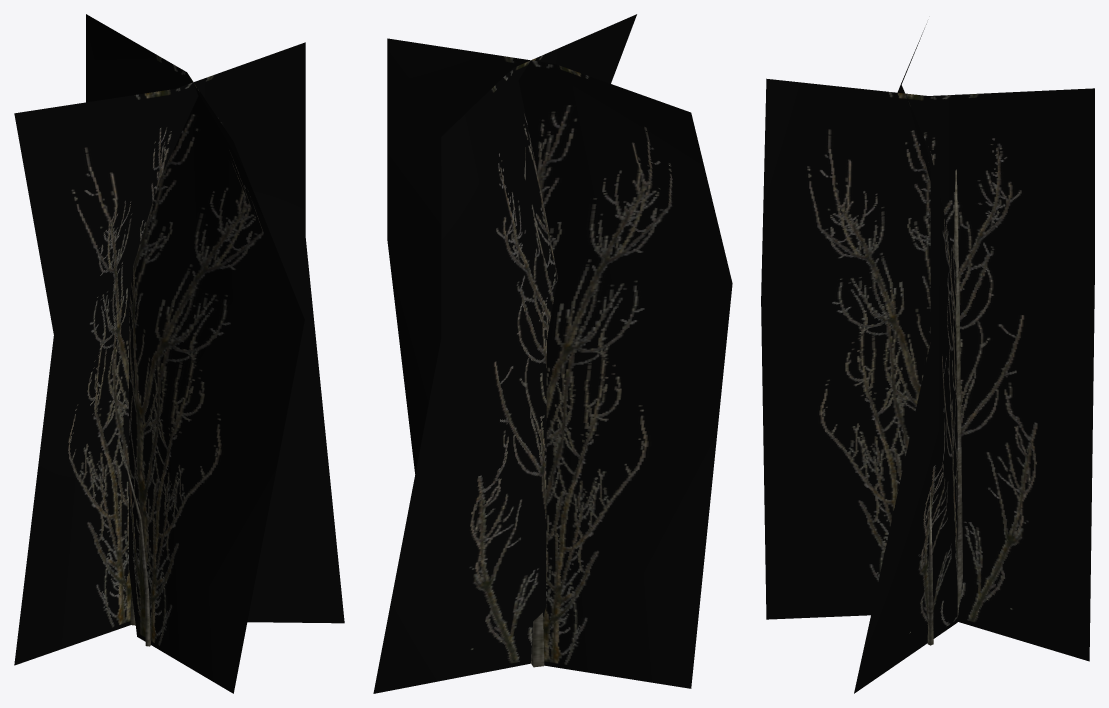
The model's file is Tree3.glb.
The picture shows the model from 3 angles, left to right: view 1: azimuth 30°, elevation 25°; view 2: azimuth 150°, elevation 25°; view 3: azimuth 270°, elevation 25°; orthographic projection. The views are drawn at different scales.
Visible parts, largest first — view 1: Tree_03_Tree_03_0; view 2: Tree_03_Tree_03_0; view 3: Tree_03_Tree_03_0.
Part boxes in pixels (left/top/right/bottom): Tree_03_Tree_03_0: left=14, top=14, right=344, bottom=693; Tree_03_Tree_03_0: left=373, top=14, right=732, bottom=693; Tree_03_Tree_03_0: left=761, top=24, right=1094, bottom=693.
Bounding box in the file's own units: 230 × 417 × 233.
Materials: 2 (2 with a texture image).
